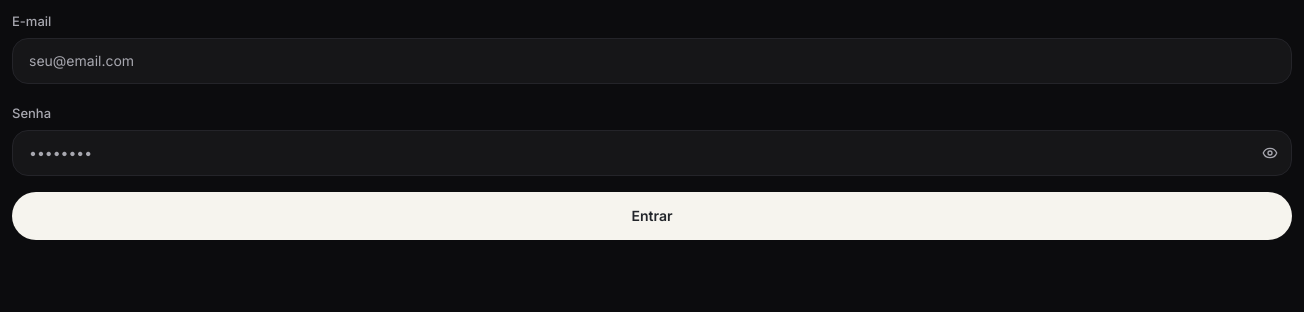
Scenario: LoginForm › exibe o erro devolvido pela action sem perder os campos
In the field with placeholder "seu@email.com": (652, 60) [12,38,1292,84], type "cliente@example.com"
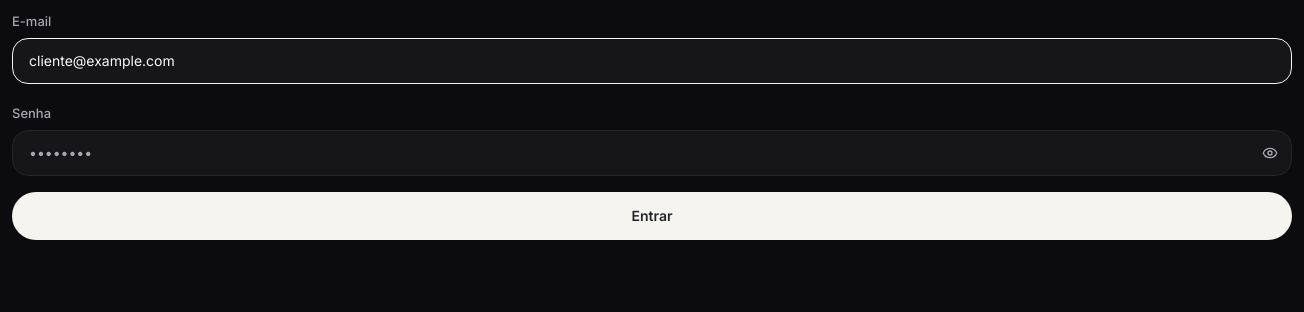
In the password field with placeholder "••••••••": (652, 152) [12,130,1292,176], type "senha-segura"
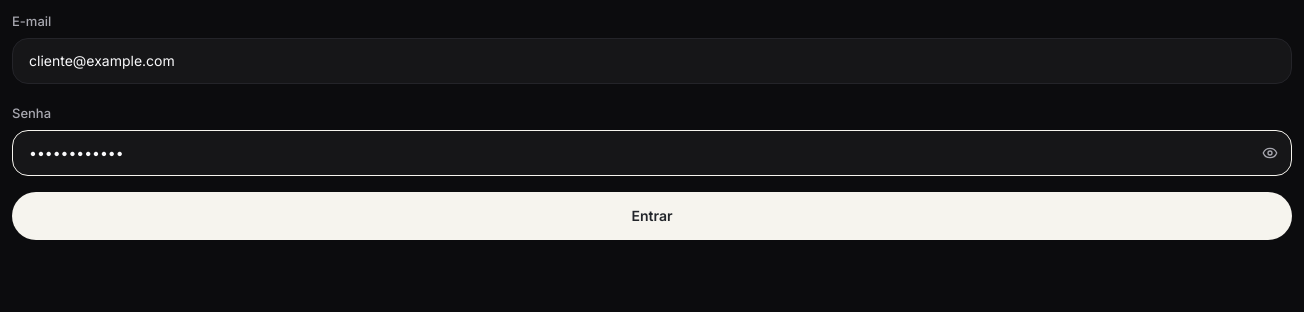
Click the button "Entrar": (652, 216) [12,192,1292,240]
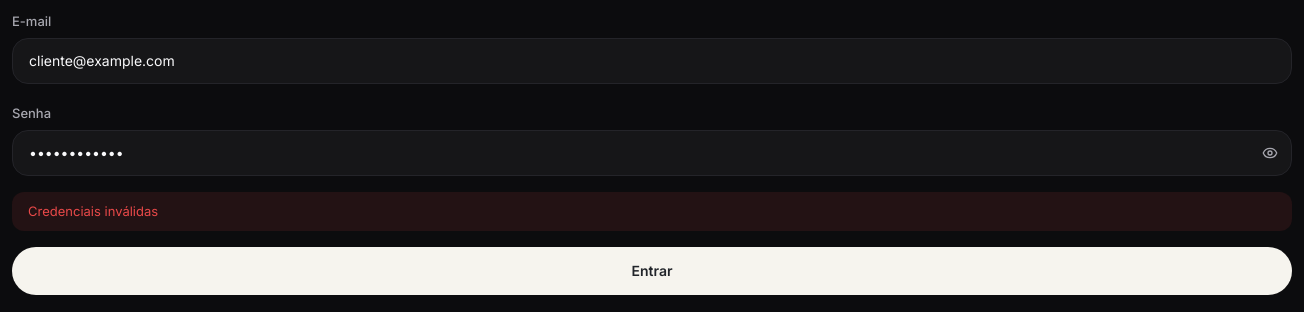
Expected: the text "Credenciais inválidas" is shown, [12,192,1292,231]
